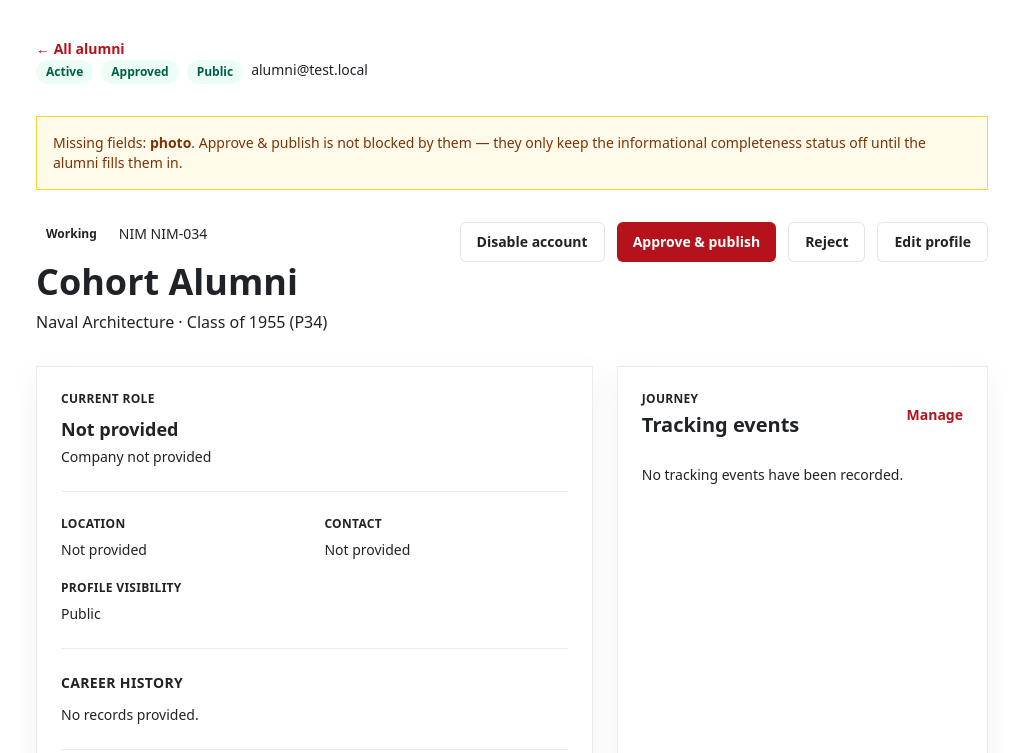
Test case: Alumni admin – tahunAngkatan edit form › does not constrain a stored year outside 1961..2059
Click the button "Edit profile" at (933,242), box [878,222,988,262]
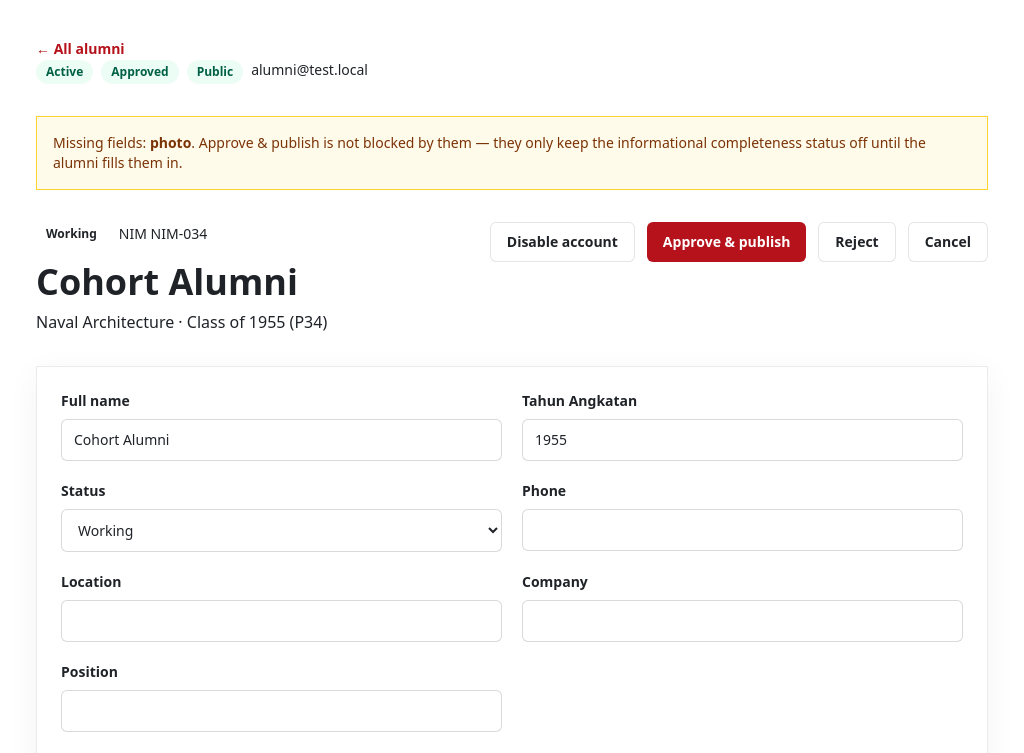
Now the number field with placeholder "e.g. 2015" holds "1955", box [522,419,963,461]
